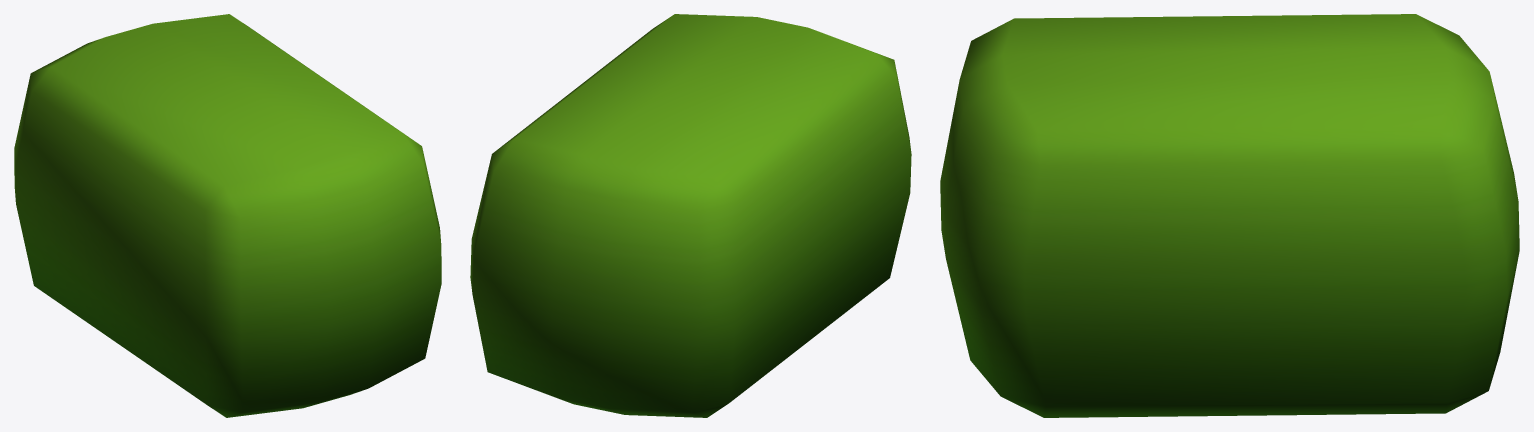
Rendered from Bush_1_2.glb.
3 views of the same model, side by side, from view 1: azimuth 30°, elevation 25°; view 2: azimuth 150°, elevation 25°; view 3: azimuth 270°, elevation 25° (orthographic). The views are drawn at different scales.
Parts seen in each view (by area): view 1: Bush_1_2; view 2: Bush_1_2; view 3: Bush_1_2.
Part boxes in pixels (x1,y1,x2,y2): Bush_1_2: (14,14,441,417); Bush_1_2: (470,14,911,417); Bush_1_2: (940,14,1519,417).
Bounding box in the file's own units: 0.799 × 0.728 × 1.29.
1 material, 1 textured.
